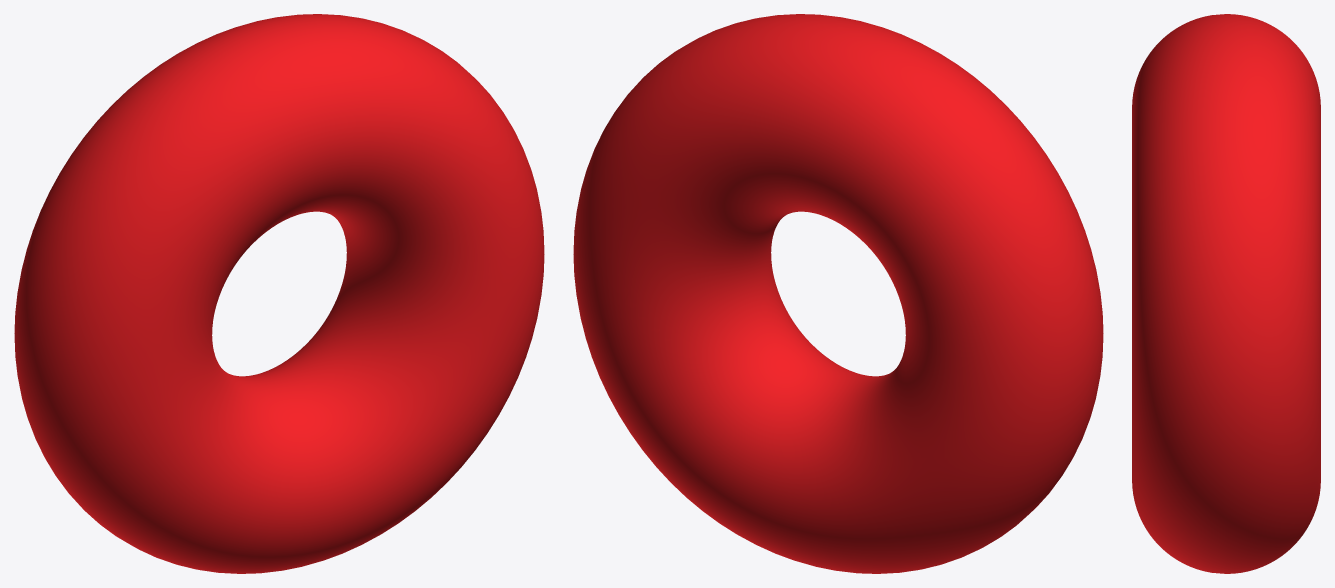
Rendered from CursorDonut.fbx.
3 renders of one model, left to right at view 1: azimuth 30°, elevation 25°; view 2: azimuth 150°, elevation 25°; view 3: azimuth 270°, elevation 25°, orthographic. The views are drawn at different scales.
Parts seen in each view (by area): view 1: root; view 2: root; view 3: root.
Boxes of the visible parts, left/top/right/bottom form: root: left=14, top=14, right=544, bottom=573; root: left=573, top=14, right=1103, bottom=573; root: left=1132, top=14, right=1320, bottom=573.
Size of the model in its own units: 0.4829 by 0.4878 by 0.1642.
Materials: 1 (1 with a texture image).
